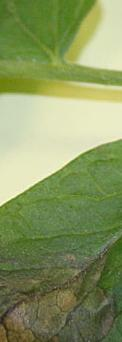Tomato leaf late blight: (0, 97, 122, 342)
